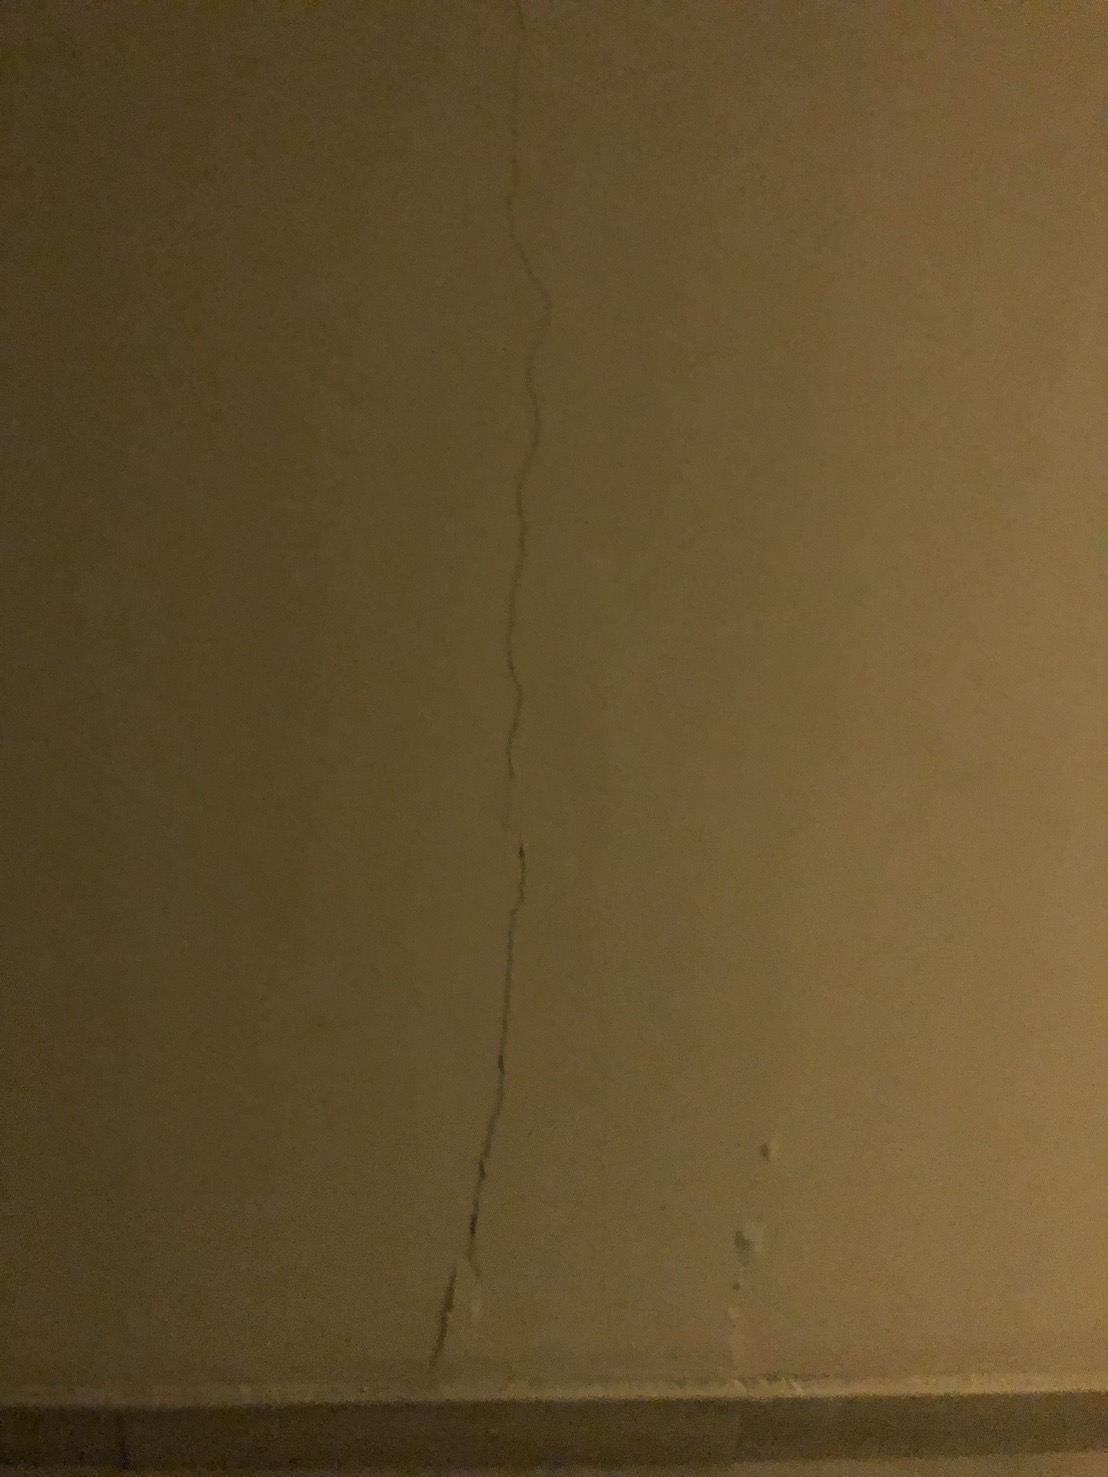Low: (384, 1, 639, 1393)
